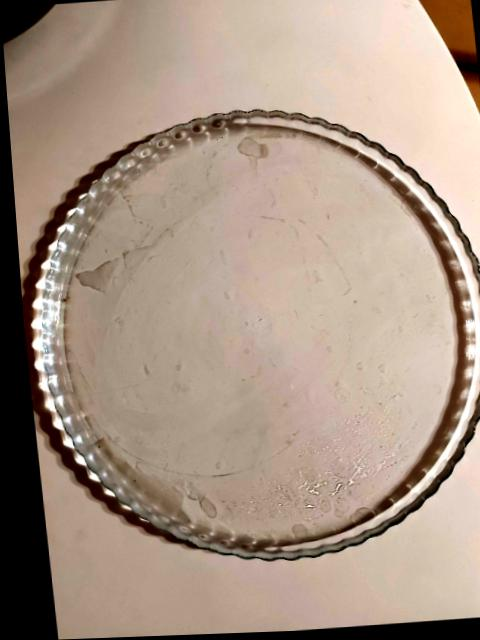Plate: (38, 111, 480, 559)
